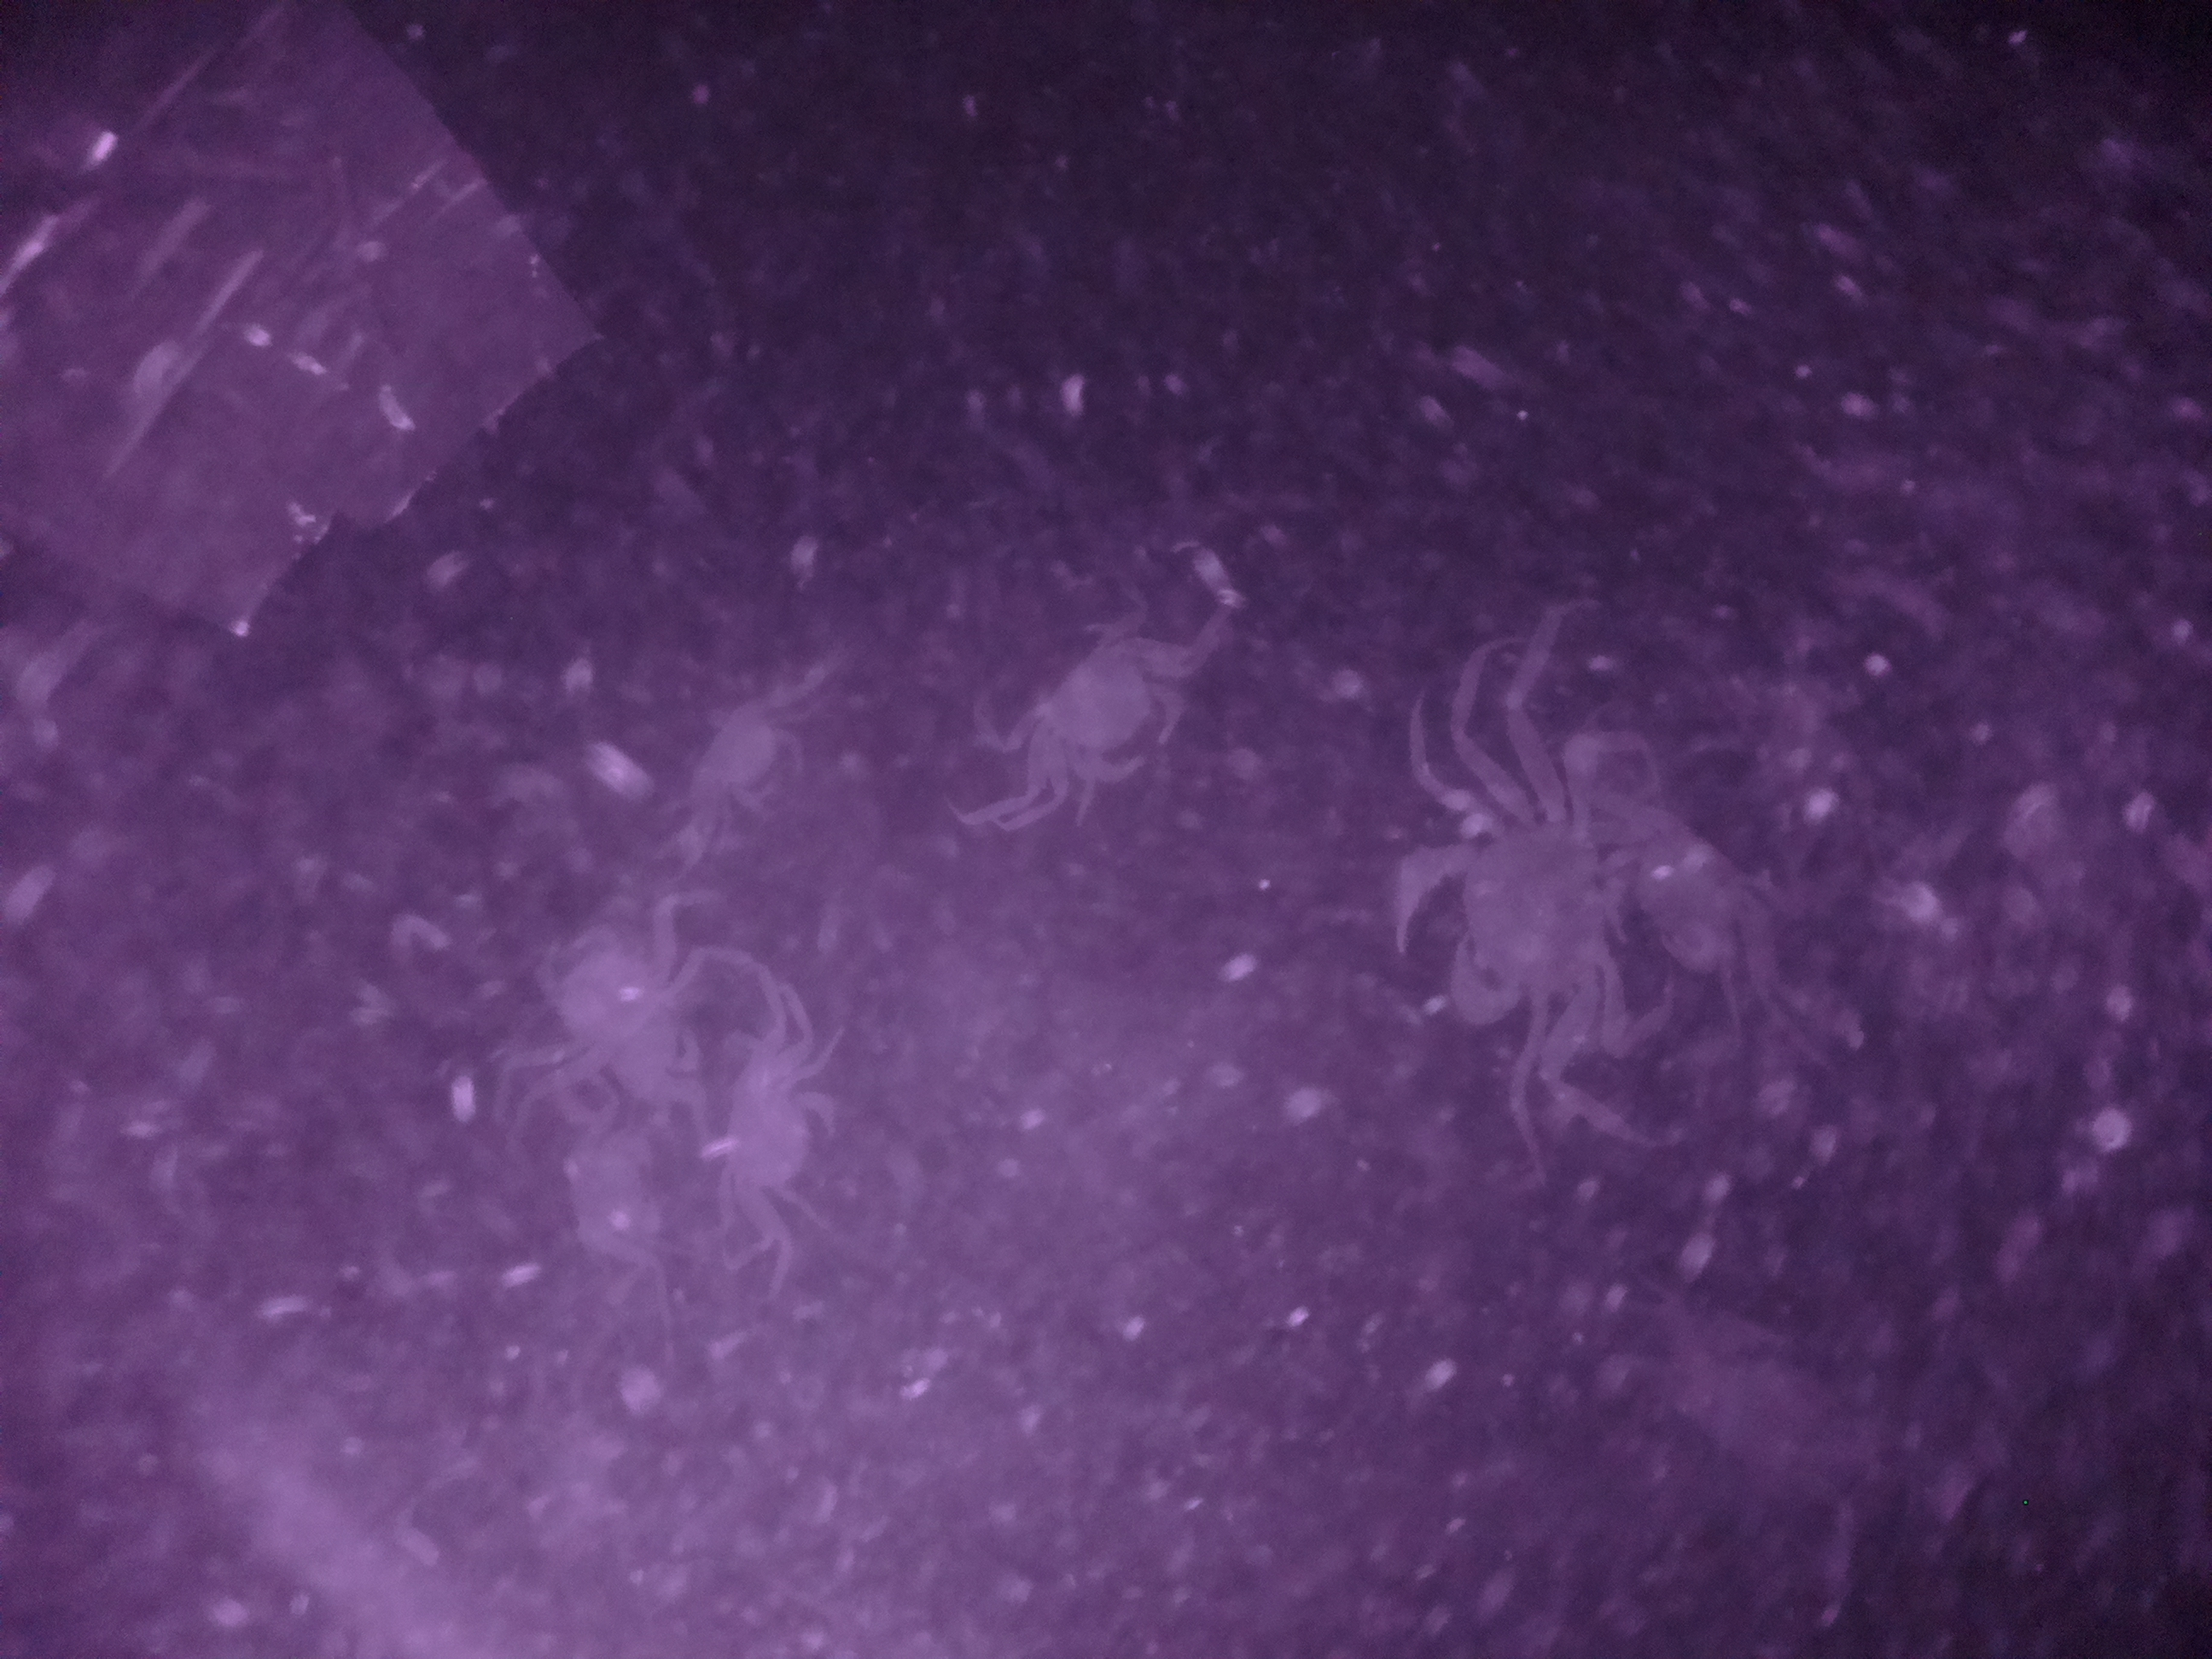Crab: (1378, 767, 1635, 1065), (1012, 603, 1211, 807), (707, 1033, 846, 1230)
